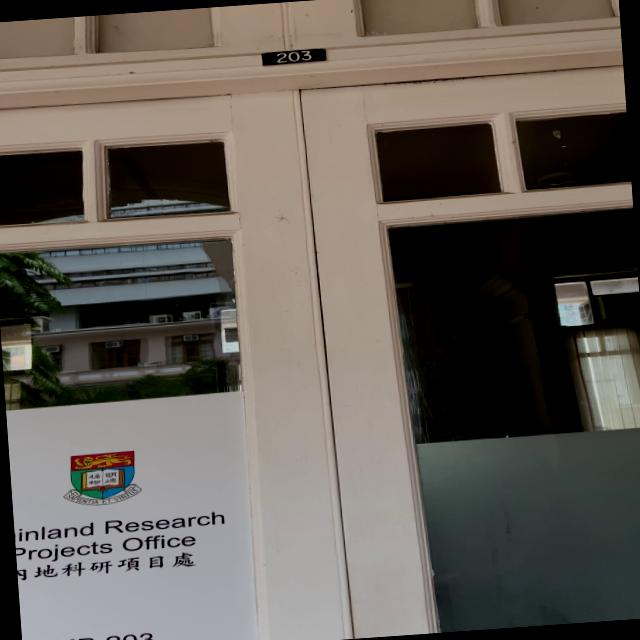room203: (257, 44, 331, 68)
